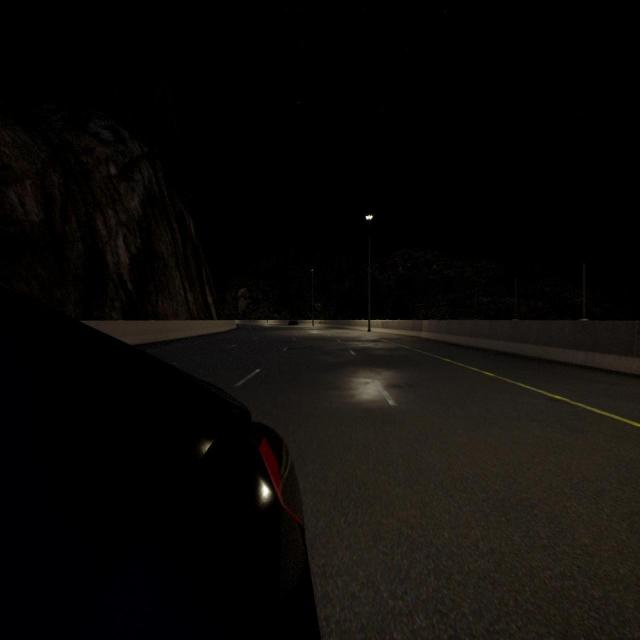Vehicle: (0, 287, 319, 640), (288, 319, 298, 326)
